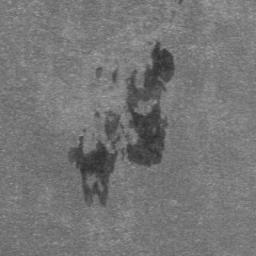Iron scale compression: (107, 41, 176, 167), (68, 135, 118, 207), (112, 65, 121, 83), (96, 68, 102, 78)
